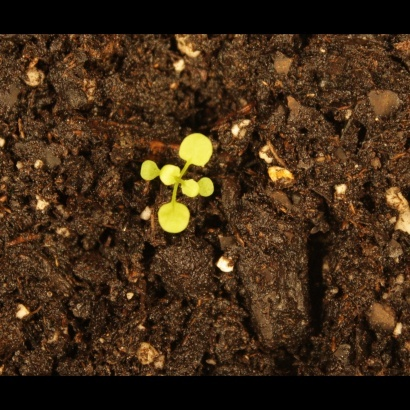leaf: (176, 127, 221, 170), (156, 198, 191, 238), (158, 163, 182, 191), (195, 173, 219, 201), (139, 160, 162, 183), (180, 177, 203, 200)
